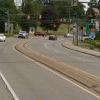Car: (45, 26, 58, 41)
